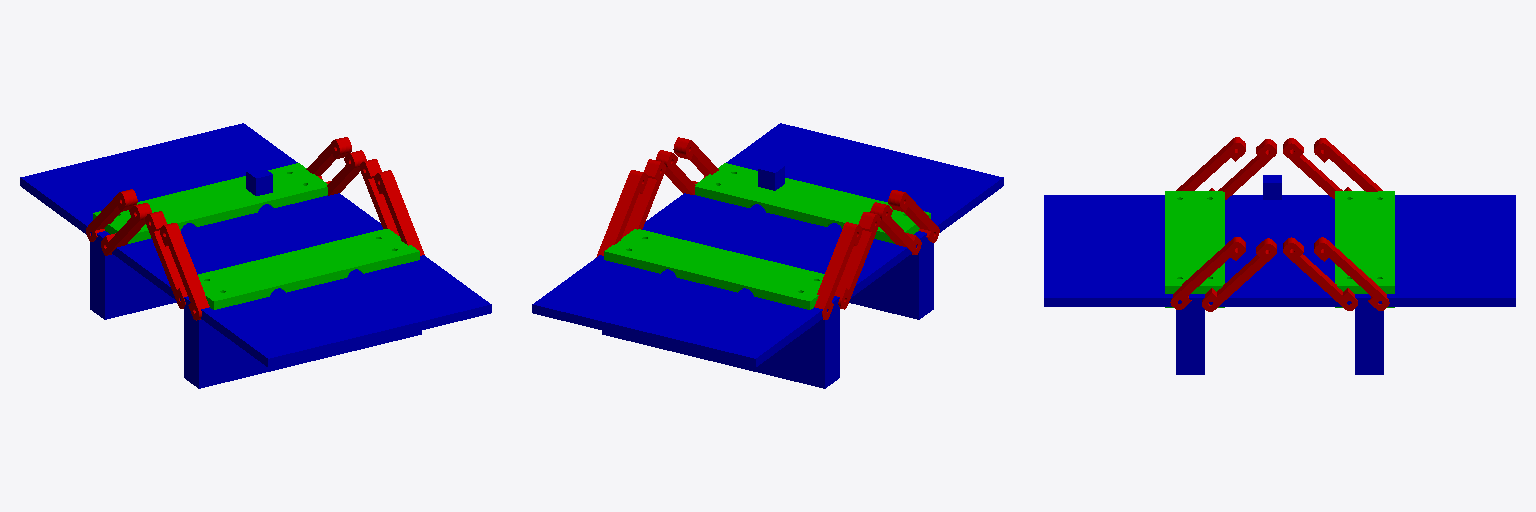
The robot description file, URDF, robot "origins":
<?xml version="1.0"?>
<robot name="origins">

  <material name="blue">
    <color rgba="0 0 0.8 1"/>
  </material>
  <material name="red">
    <color rgba="0.8 0 0 1"/>
  </material>
    <material name="green">
    <color rgba="0 0.8 0 1"/>
  </material>

  <link name="base_link">
    <visual>
      <origin rpy="0 0 1.57079633" xyz="0 0 0"/>
      <geometry>
        <mesh filename="meshes/baseALT.dae"/>
      </geometry>
      <material name="blue"/>
    </visual>
    <inertial>
        <mass value="100"/>
        <inertia ixx="1" iyy="1" izz="1" ixy="0" ixz="0" iyz="0"/>
     </inertial> 
    <collision>
	<origin rpy="0 0 1.57079633" xyz="0 0 0"/>
      <geometry>
        <mesh filename="meshes/baseALT.dae"/>
      </geometry>
    </collision>
  </link>



  <link name="carriage1">
    <visual>
      <origin rpy="0 0 0" xyz="-0.0025 0 0"/>
      <geometry>
        <mesh filename="meshes/carriage.dae"/>
      </geometry>
      <material name="green"/>
    </visual>
     <inertial>
        <mass value="0.116"/>
        <inertia ixx="0.015" iyy="0.0375" izz="0.0375" ixy="0" ixz="0" iyz="0"/>
     </inertial> 
    <collision>
      <geometry>
        <box size="0.12 0.03 0.015"/>
      </geometry>
    </collision>
  </link>

  <joint name="base_to_carriage1" type="prismatic">
    <parent link="base_link"/>
    <child link="carriage1"/>
    <origin xyz="0 0.045 0.0075"/>
    <axis xyz = "0 1 0"/>
    <limit effort="1000.0" lower="-0.08" upper=".08" velocity="0.5"/>
  </joint>


  <link name="carriage2">
    <visual>
       <origin rpy="0 0 0" xyz="-0.0025 0 0"/>
      <geometry>
        <mesh filename="meshes/carriage.dae"/>
      </geometry>
      <material name="green"/>
    </visual>
     <inertial>
        <mass value="0.116"/>
        <inertia ixx="0.015" iyy="0.0375" izz="0.0375" ixy="0" ixz="0" iyz="0"/>
     </inertial> 
    <collision>
      <geometry>
        <box size="0.12 0.03 0.015"/>
      </geometry>
    </collision>
  </link>
     
  <joint name="base_to_carriage2" type="prismatic">
    <parent link="base_link"/>
    <child link="carriage2"/>
    <origin xyz="0 -0.045 0.0075"/>
    <axis xyz = "0 1 0"/>
    <limit effort="1000.0" lower="-0.08" upper="0.08" velocity="0.5"/>
  </joint>


  <link name="middle">
    <visual>
       <origin rpy="1.57059633 3.1415926535 1.57059633" xyz="0 0 0"/>
      <geometry>
        <mesh filename="meshes/middle1.dae"/>
      </geometry>
      <material name="blue"/>
    </visual>
    <inertial>
        <mass value="0.07158"/>
        <inertia ixx="0.015" iyy="0.0375" izz="0.0375" ixy="0" ixz="0" iyz="0"/>
     </inertial> 
    <collision>
      <geometry>
        <box size="0.12 0.06 0.01"/>
      </geometry>
      <origin xyz="0 -.025 0"/>
    </collision>
  </link>

  <joint name="arml1_to_middle" type="continuous">
    <parent link="arml1"/>
    <child link="middle"/>
    <origin rpy="0.7853981625 0 0" xyz="-0.0625 -0.045 0"/>
    <axis xyz = "1 0 0"/>
  </joint>


  <link name="EE">
    <visual>
      <geometry>
        <box size = "0.01 0.01 0.01"/>
      </geometry>
      <material name="blue"/>
    </visual>
    <collision>
      <geometry>
        <box size = "0.001 0.001 0.001"/>
      </geometry>
      <origin xyz="0 0 0"/>
    </collision>
  </link>

  <joint name="middle_to_EE" type="continuous">
    <parent link="middle"/>
    <child link="EE"/>
    <origin rpy="0 0 0" xyz="0 -0.025 0.005"/>
    <axis xyz = "0 0 1"/>
  </joint>



  <link name="arml1">
    <visual>
       <origin rpy="1.57059633 3.141592 1.57079633" xyz="0 0 0"/>
      <geometry>
        <mesh filename="meshes/arm1.dae"/>
      </geometry>
      <material name="red"/>
    </visual>
    <collision>
      <geometry>
        <box size="0.005 0.05 0.003"/>
      </geometry>
      <origin xyz="0 -0.0225 0"/>
    </collision>
    <inertial>
        <mass value="0.0159"/>
        <inertia ixx="0.015" iyy="0.0" izz="0.015" ixy="0" ixz="0" iyz="0"/>
     </inertial> 
  </link>
  <joint name="carriage1_to_arml1" type="continuous">
    <parent link="carriage1"/>
    <child link="arml1"/>
    <axis xyz = "1 0 0"/>
    <origin rpy="-0.7853981625 0 0" xyz="0.0625 0.008 0"/>
  </joint>


  <link name="arml2">
    <visual>
       <origin rpy="1.57059633 0 1.57079633" xyz="0 0 0"/>
      <geometry>
        <mesh filename="meshes/arm1.dae"/>
      </geometry>
      <material name="red"/>
    </visual>
    <collision>
     <origin xyz="0 0.0225 0"/>
      <geometry>
        <box size="0.005 0.05 0.003"/>
      </geometry>
    </collision>
    <inertial>
        <mass value="0.0159"/>
        <inertia ixx="0.015" iyy="0" izz="0.015" ixy="0" ixz="0" iyz="0"/>
     </inertial> 
  </link>
  <joint name="carriage2_to_arml2" type="continuous">
    <parent link="carriage2"/>
    <child link="arml2"/>
    <axis xyz = "1 0 0"/>

    <origin rpy="0.7853981625 0 0" xyz="0.0625 0.008 0"/>
  </joint>

    

  <link name="armr1">
    <visual>
       <origin rpy="-1.57079633 0 -1.57059633" xyz="0 0 0"/>
      <geometry>
        <mesh filename="meshes/arm1.dae"/>
      </geometry>
      <material name="red"/>
    </visual>
    <collision>
      <origin xyz="0 -0.0225 0"/>
      <geometry>
        <box size="0.005 0.05 0.003"/>
      </geometry>
    </collision>
     <inertial>
        <mass value="0.0159"/>
        <inertia ixx="0.015" iyy="0" izz="0.015" ixy="0" ixz="0" iyz="0"/>
     </inertial> 
  </link>
  <joint name="carriage1_to_armr1" type="continuous">
    <parent link="carriage1"/>
    <child link="armr1"/>
    <axis xyz = "1 0 0"/>

    <origin rpy="-0.7853981625 0 0" xyz="-0.0625 0.008 0"/>
  </joint>

    

  <link name="armr2">
    <visual>
       <origin rpy="1.57059633 3.141592 -1.57079633" xyz="0 0 0"/>
      <geometry>
        <mesh filename="meshes/arm1.dae"/>
      </geometry>
      <material name="red"/>
    </visual>
    <collision>
      <origin xyz="0 0.0225 0"/>
      <geometry>
        <box size="0.005 0.05 0.003"/>
      </geometry>
    </collision>
     <inertial>
        <mass value="0.0159"/>
        <inertia ixx="0.015" iyy="0" izz="0.015" ixy="0" ixz="0" iyz="0"/>
     </inertial> 
  </link>
  <joint name="carriage2_to_armr2" type="continuous">
    <parent link="carriage2"/>
    <child link="armr2"/>
    <origin rpy="0.7853981625 0 0" xyz="-0.0625 -0.008 0"/>
    <axis xyz = "1 0 0"/>

  </joint>

  <link name="arml3">
    <visual>
       <origin rpy="1.570596330 0 -1.57079633" xyz="0 0 0"/>
      <geometry>
        <mesh filename="meshes/arm1.dae"/>
      </geometry>
      <material name="red"/>
    </visual>
    <collision>
      <origin xyz="0 -0.0225 0"/>
      <geometry>
        <box size="0.005 0.05 0.003"/>
      </geometry>
    </collision>
   <inertial>
        <mass value="0.0159"/>
        <inertia ixx="0.015" iyy="0" izz="0.015" ixy="0" ixz="0" iyz="0"/>
     </inertial> 
  </link>
  <joint name="carriage1_to_arml3" type="continuous">
    <parent link="carriage1"/>
    <child link="arml3"/>
    <origin rpy="-0.7853981625 0 0" xyz="0.0625 -0.008 0"/>
    <axis xyz = "1 0 0"/>
  </joint>


  <link name="arml4">
    <visual>
       <origin rpy="1.57059633 3.141592 -1.57079633" xyz="0 0 0"/>
      <geometry>
        <mesh filename="meshes/arm1.dae"/>
      </geometry>
      <material name="red"/>
    </visual>
    <collision>
      <origin xyz="0 0.0225 0"/>
      <geometry>
        <box size="0.005 0.05 0.003"/>
      </geometry>
    </collision>
   <inertial>
        <mass value="0.0159"/>
        <inertia ixx="0.015" iyy="0" izz="0.015" ixy="0" ixz="0" iyz="0"/>
     </inertial> 
  </link>
  <joint name="carriage2_to_arml4" type="continuous">
    <parent link="carriage2"/>
    <child link="arml4"/>
    <origin rpy="0.7853981625 0 0" xyz="0.0625 -0.008 0"/>
    <axis xyz = "1 0 0"/>
  </joint>
    

  <link name="armr3">
    <visual>
       <origin rpy="-1.57079633 3.14159265 1.57079633" xyz="0 0 0"/>
      <geometry>
        <mesh filename="meshes/arm1.dae"/>
      </geometry>
      <material name="red"/>
    </visual>
    <collision>
      <origin xyz="0 -0.0225 0"/>
      <geometry>
        <box size="0.005 0.05 0.003"/>
      </geometry>
    </collision>
    <inertial>
        <mass value="0.0159"/>
        <inertia ixx="0.015" iyy="0" izz="0.015" ixy="0" ixz="0" iyz="0"/>
     </inertial> 
  </link>
  <joint name="carriage1_to_armr3" type="continuous">
    <parent link="carriage1"/>
    <child link="armr3"/>
    <origin rpy="-0.7853981625 0 0" xyz="-0.0625 -0.008 0"/>
    <axis xyz = "1 0 0"/>
  </joint>
    

  <link name="armr4">
    <visual>
       <origin rpy="1.57059633 0 1.57079633" xyz="0 0 0"/>
      <geometry>
        <mesh filename="meshes/arm1.dae"/>
      </geometry>
      <material name="red"/>
    </visual>
    <collision>
      <origin xyz="0 0.0225 0"/>
      <geometry>
        <box size="0.005 0.05 0.003"/>
      </geometry>
    </collision>
    <inertial>
        <mass value="0.0159"/>
        <inertia ixx="0.015" iyy="0" izz="0.015" ixy="0" ixz="0" iyz="0"/>
     </inertial> 
  </link>
  <joint name="carriage2_to_armr4" type="continuous">
    <parent link="carriage2"/>
    <child link="armr4"/>
    <origin rpy="0.7853981625 0 0" xyz="-0.0625 0.008 0"/>
    <axis xyz = "1 0 0"/>

  </joint>
    
</robot>

--- Render facts (derived) ---
Views: 3 orthographic renders of the robot side by side, from view 1: azimuth 30°, elevation 25°; view 2: azimuth 150°, elevation 25°; view 3: azimuth 270°, elevation 25°.
Model origins with 13 links and 12 joints (10 continuous, 2 prismatic), rooted at base_link, posed every joint at zero.
Visible links, largest first — view 1: base_link, carriage2, carriage1, armr2, arml4, armr4, armr3, armr1, arml2, arml1, arml3, EE; view 2: base_link, carriage1, carriage2, armr1, armr3, arml1, arml3, armr2, armr4, arml4, arml2, EE; view 3: base_link, carriage2, carriage1, arml2, arml1, arml4, arml3, armr2, armr1, armr3, armr4.
Boxes of the visible links, x1,y1,x2,y2 form: base_link: (20,123,491,388); carriage2: (198,229,419,309); carriage1: (93,163,327,243); armr2: (160,223,209,320); arml4: (374,170,424,255); armr4: (145,211,187,308); armr3: (101,203,151,255); armr1: (86,189,137,241); arml2: (360,159,398,235); arml1: (306,137,351,179); arml3: (326,150,366,195); EE: (246,167,272,195); base_link: (532,123,1003,388); carriage1: (604,229,824,309); carriage2: (695,163,930,243); armr1: (814,222,862,319); armr3: (834,212,880,309); arml1: (596,170,647,257); arml3: (622,159,665,237); armr2: (888,190,939,242); armr4: (870,202,921,254); arml4: (673,137,718,178); arml2: (656,150,697,194); EE: (758,162,784,190); base_link: (1044,195,1515,374); carriage2: (1165,191,1224,307); carriage1: (1335,191,1394,307); arml2: (1202,238,1276,311); arml1: (1314,237,1389,310); arml4: (1170,237,1245,309); arml3: (1283,237,1357,310); armr2: (1176,137,1245,190); armr1: (1314,138,1382,191); armr3: (1283,138,1351,198); armr4: (1209,139,1276,199).
Bounding box of the posed robot: 0.133 × 0.25 × 0.0845 m (x, y, z).
Meshes: 4 distinct files referenced, 11 mesh visuals loaded (3 Collada DAE); not drawn: 1 (reference not matched to a file when rendering).